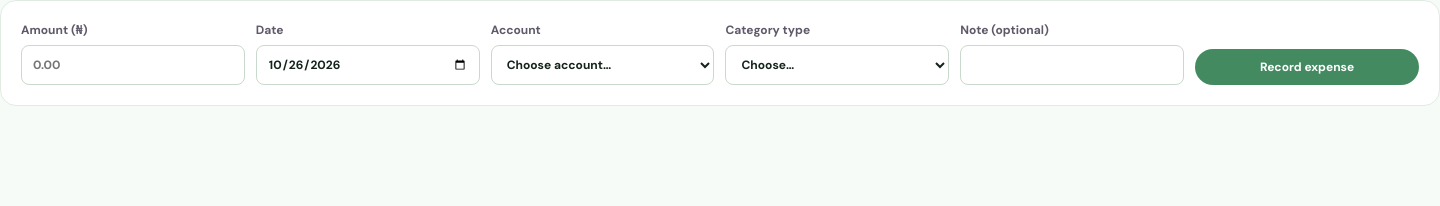
Test: requires category, and an item when the group has items
Click the button "Record expense" at (1307, 67), box 1195,49 -> 1419,85
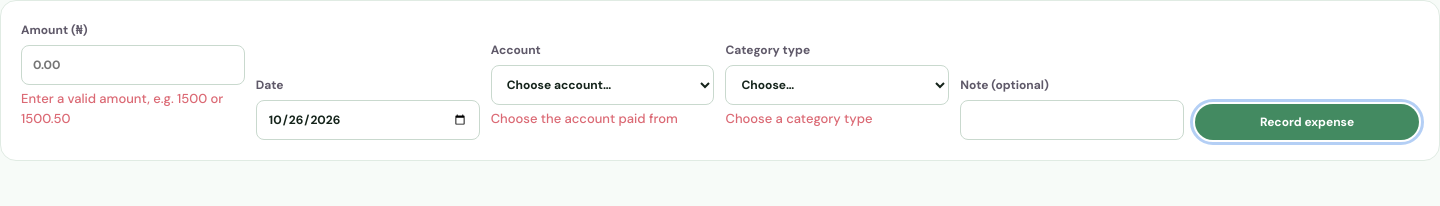
Expected: the text "Choose the account paid from" is shown, 491,110 -> 678,126
Expected: the text "Choose a category type" is shown, 726,110 -> 872,126
Type "250" into the field labelled "Amount (₦)" at (133, 65), box 21,45 -> 245,85
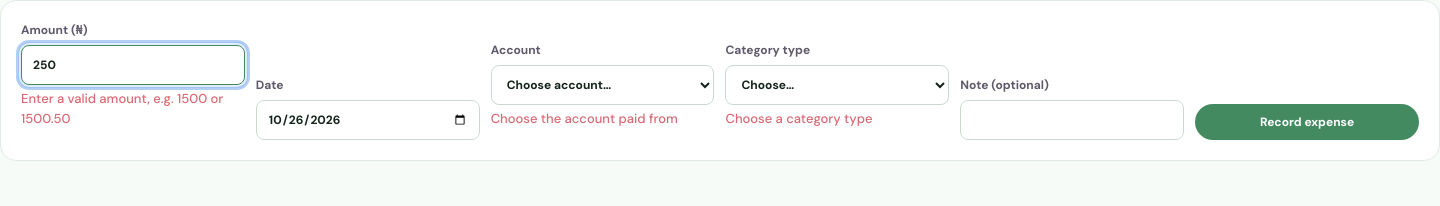
Select "Main" in the dropdown labelled "Account" at (603, 84), box 491,64 -> 714,104
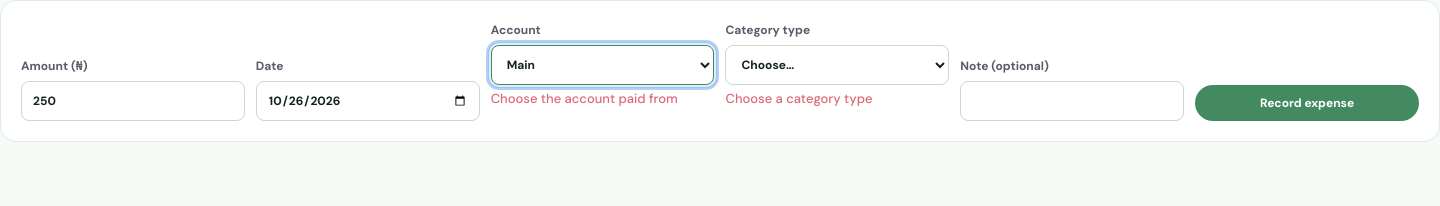
Select "Recurrent" in the dropdown labelled "Category type" at (837, 65), box 726,45 -> 949,85
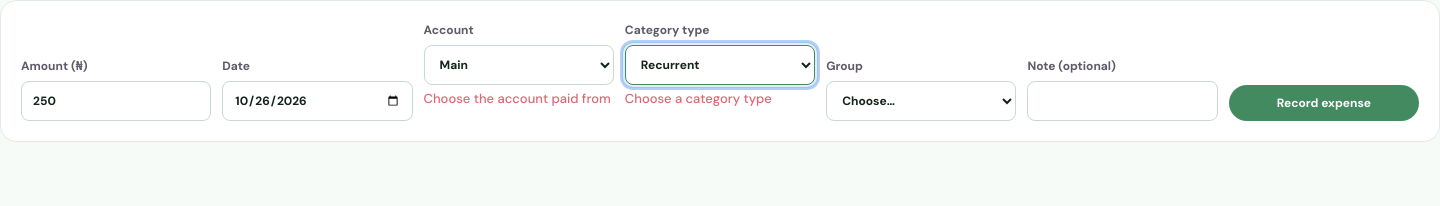
Select "Tax and Dues" in the dropdown labelled "Group" at (921, 100), box 826,80 -> 1016,120
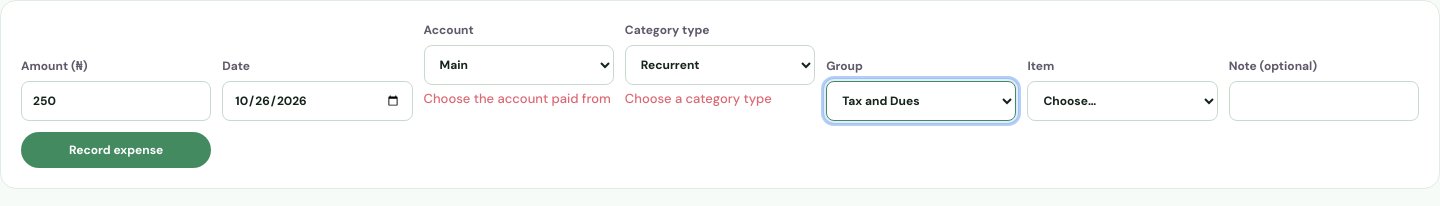
Click the button "Record expense" at (116, 150), box 21,132 -> 211,168
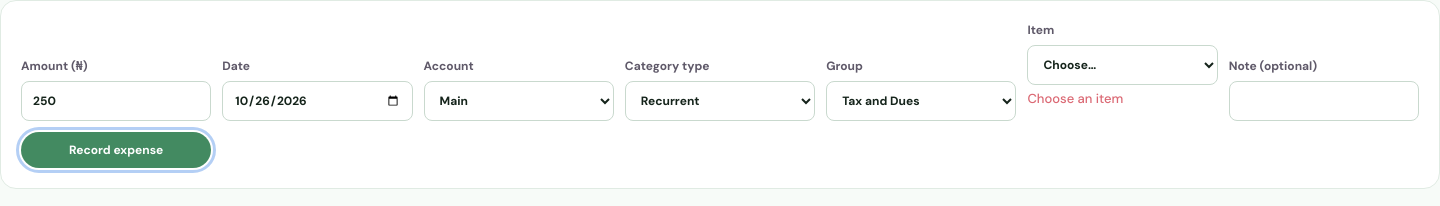
Expected: the text "Choose an item" is shown, 1027,90 -> 1123,107
